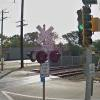Traffic light: (66, 4, 100, 43)
